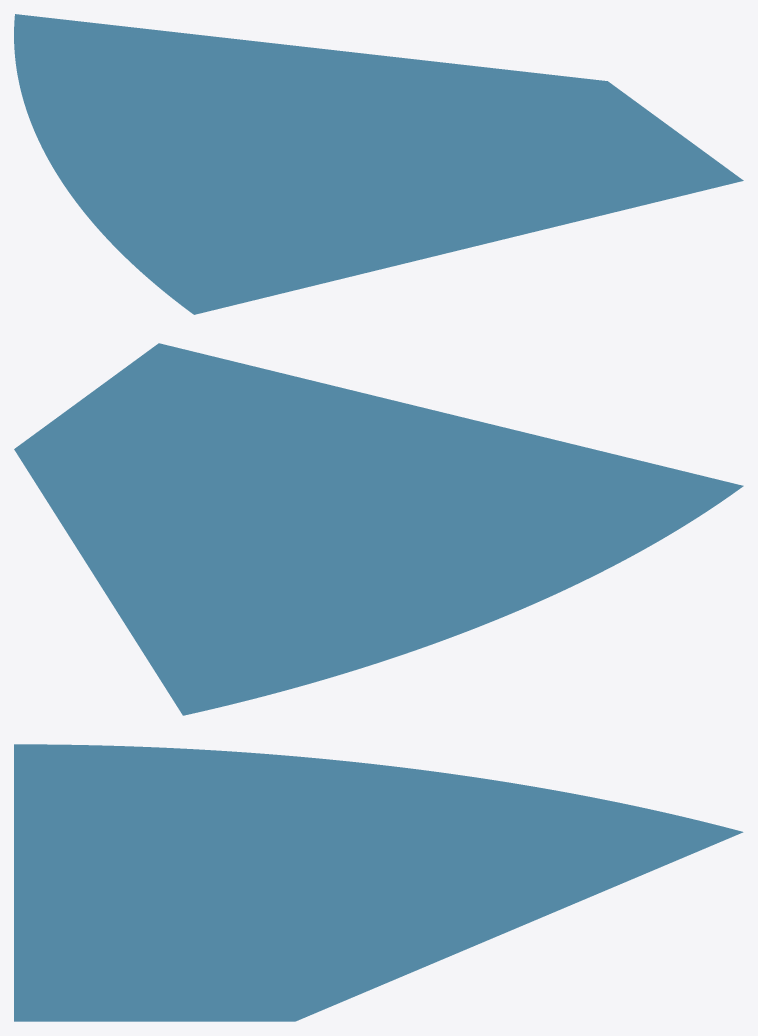
Rendered from SM_Ocean_10.fbx.
3 views of the same model, one above another, from view 1: azimuth 30°, elevation 25°; view 2: azimuth 150°, elevation 25°; view 3: azimuth 270°, elevation 25° (orthographic). The views are drawn at different scales.
Parts seen in each view (by area): view 1: SM_Ocean_10; view 2: SM_Ocean_10; view 3: SM_Ocean_10.
Part boxes in pixels (x1,y1,x2,y2): SM_Ocean_10: (14,14,743,314); SM_Ocean_10: (14,343,743,715); SM_Ocean_10: (14,744,743,1021).
Bounding box in the file's own units: 38475 × 0 × 42800.
